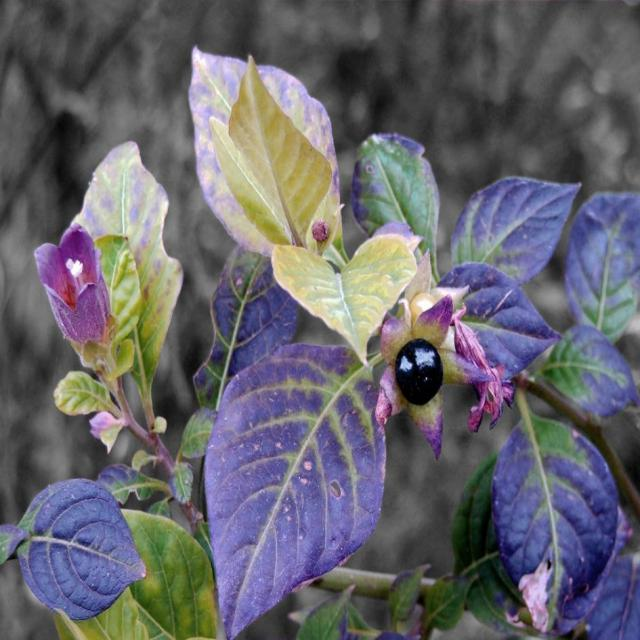Poisonous-Deadly_Nightshade: (223, 184, 640, 624), (293, 242, 544, 471), (26, 215, 189, 469)
